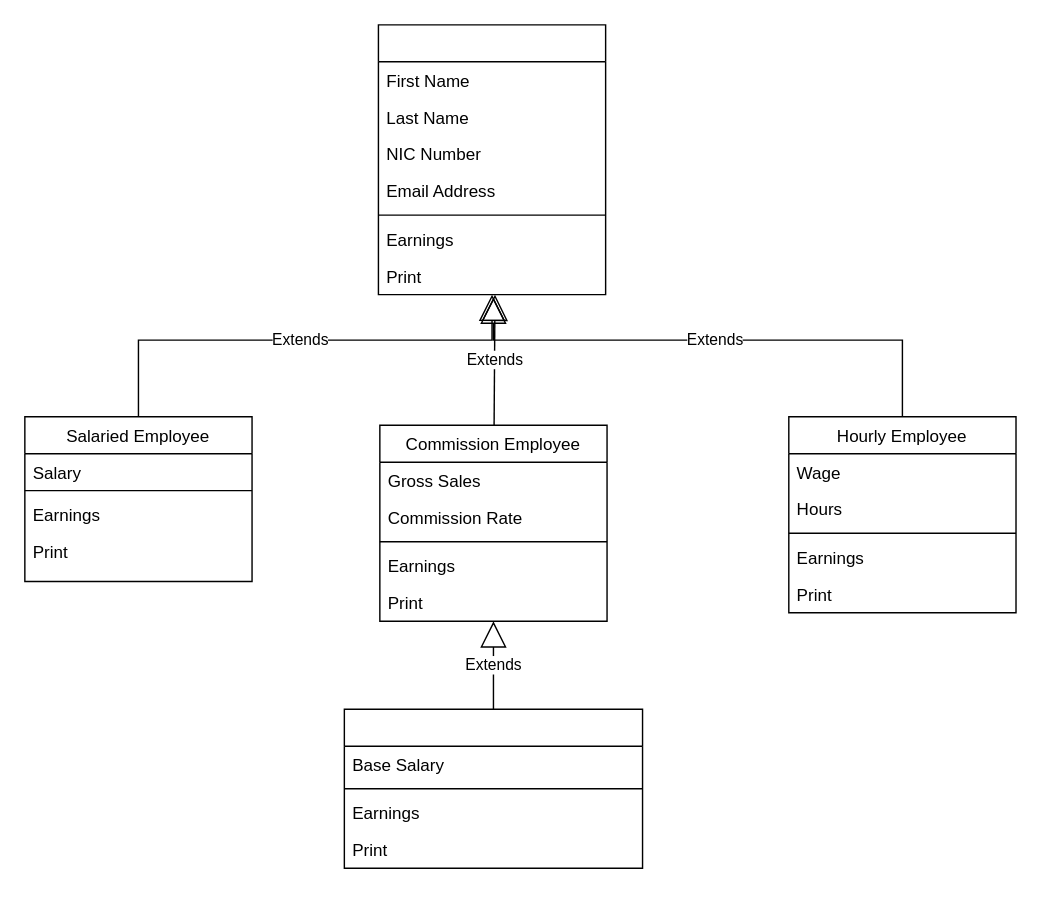
This 1041x897 diagram has some shape labels left out. The shapes that lost their labels are listed below. From the top down, each one's box as (x1, y1, x2, y2) in pixels, then its label:
(377, 23, 606, 295): Employee
(343, 708, 643, 868): Base Plus Commission Employee
